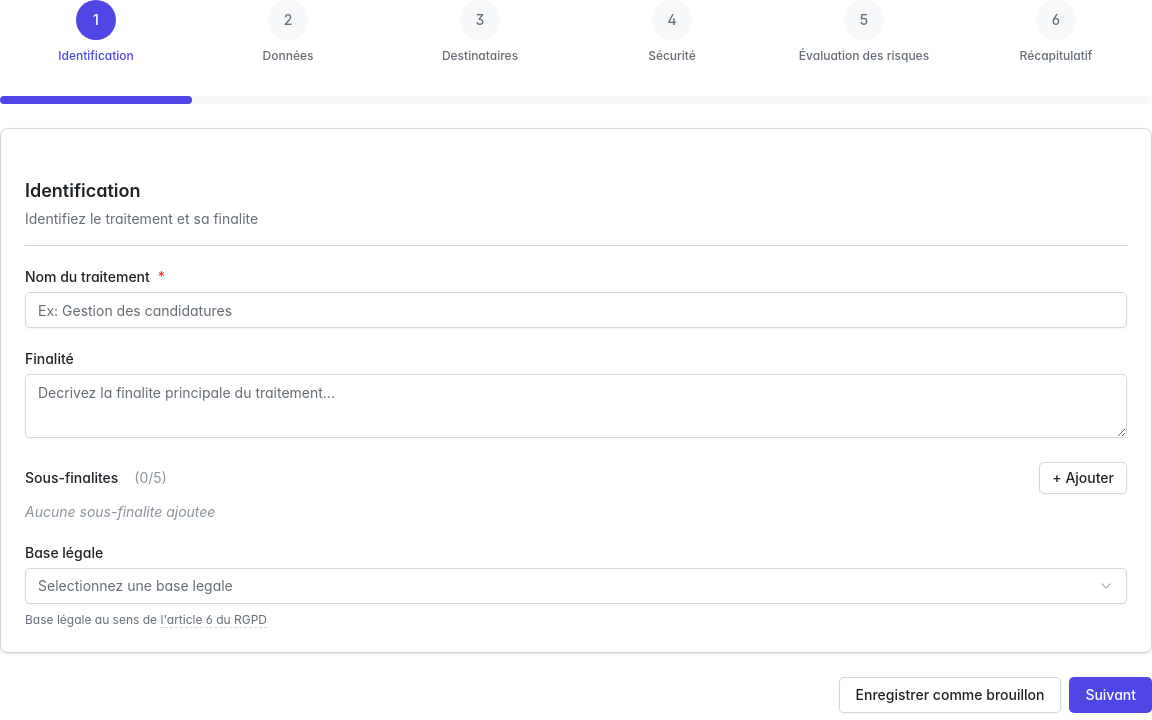
Scenario: TreatmentWizard › returns to the previous step when the Previous button is clicked
Type "Gestion RH" into the field labelled "Nom du traitement *" at point(576, 310), box x1=25 y1=292 x2=1127 y2=328
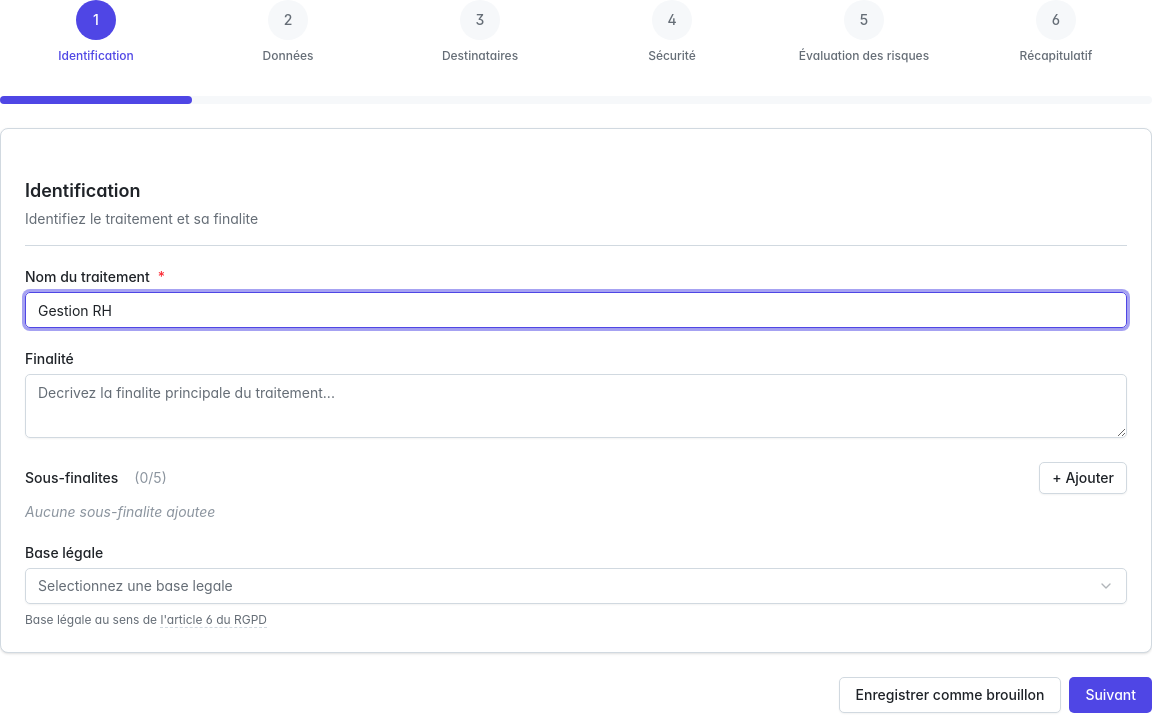
Click the button "Suivant" at point(1111, 695), box x1=1069 y1=677 x2=1151 y2=713
(page scrolled)
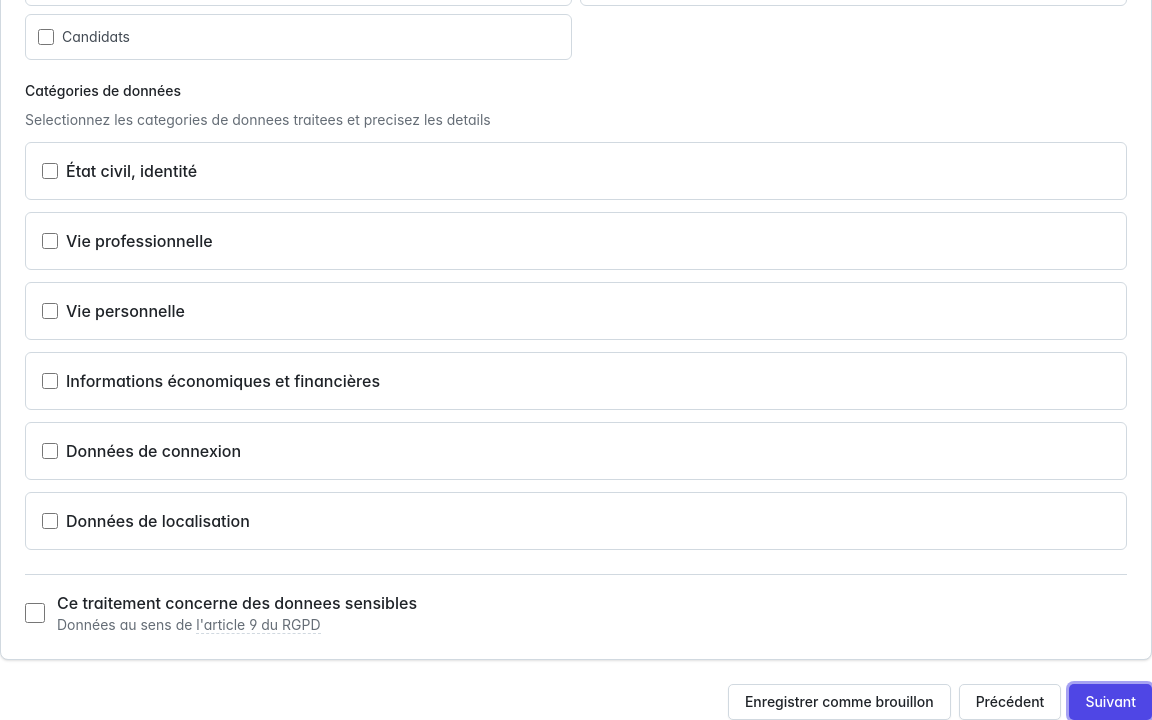
Click the button "Précédent" at point(1010, 702), box x1=959 y1=684 x2=1061 y2=719
(page scrolled)
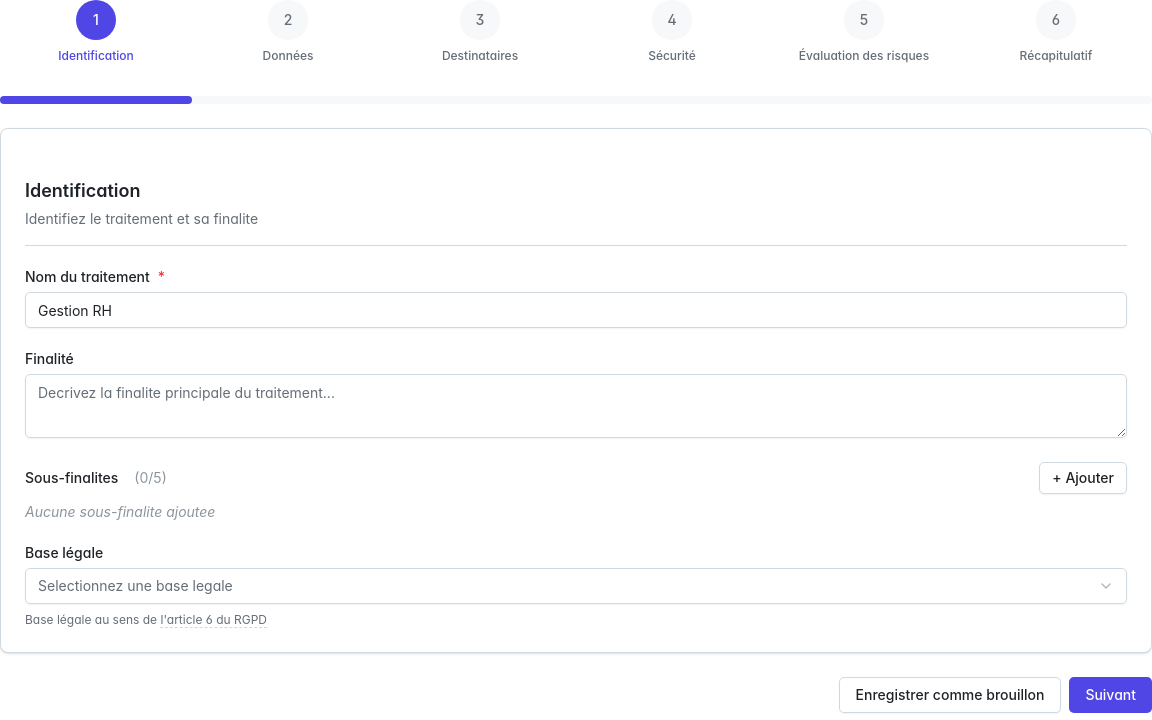
Expected: the heading "Identification" is shown, x1=25 y1=180 x2=140 y2=201
